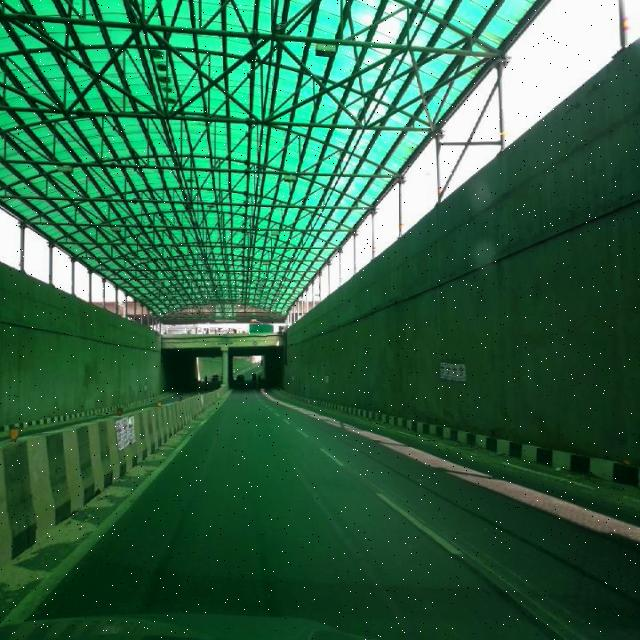D00: (288, 459, 348, 542), (348, 546, 407, 628)
